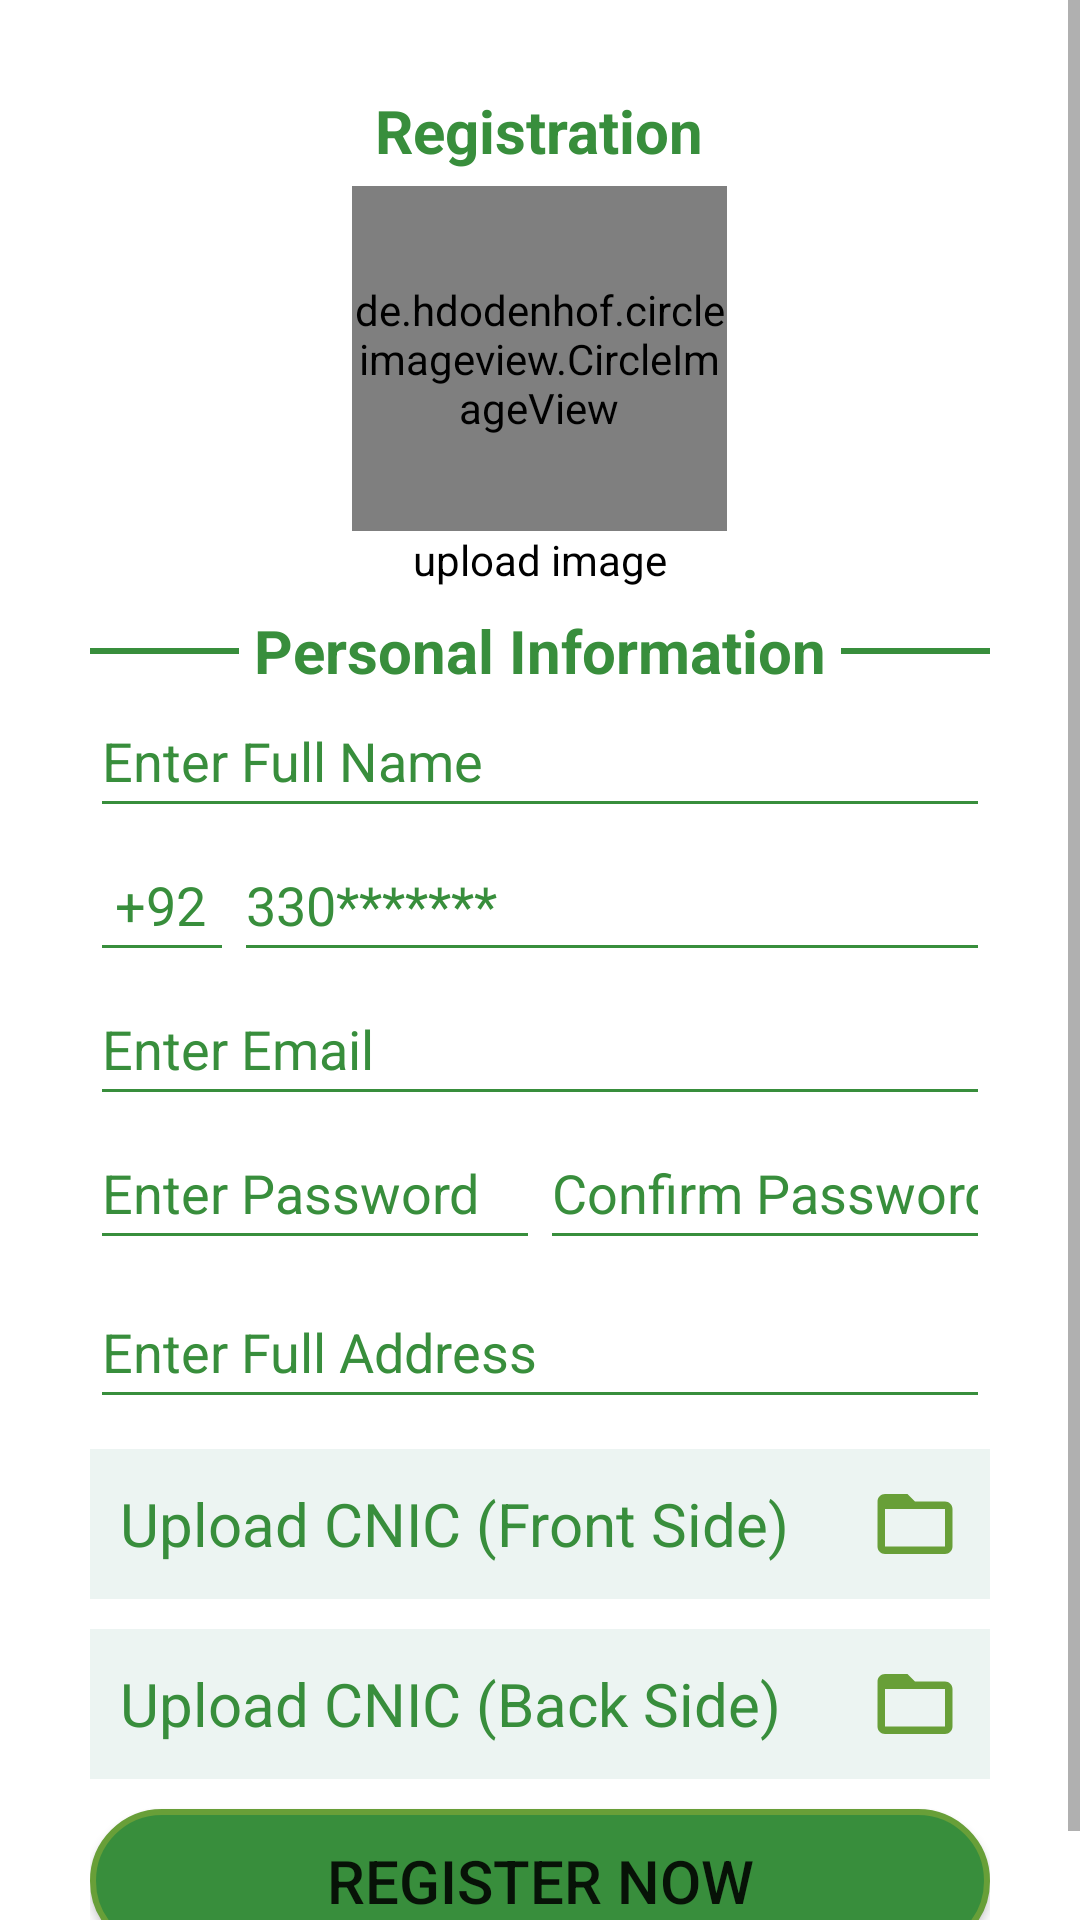

Named icons in this screenshot (1080*1920) and their bounding boxes, (x1, y1, x2, y2):
folder: (877, 1494, 953, 1554), (877, 1674, 953, 1734)
